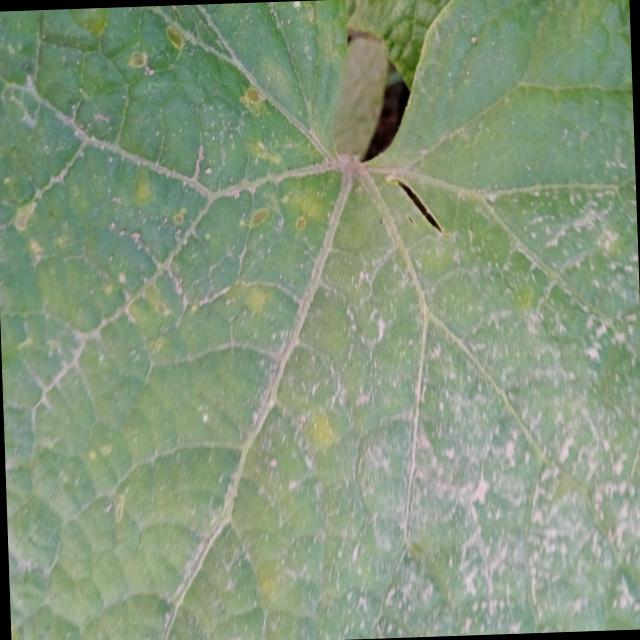cucumber_downy: (0, 5, 640, 632)
